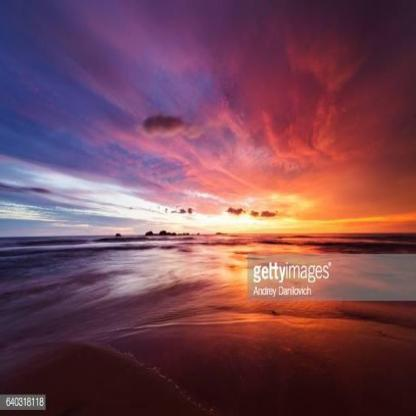other: (191, 184, 377, 236)
